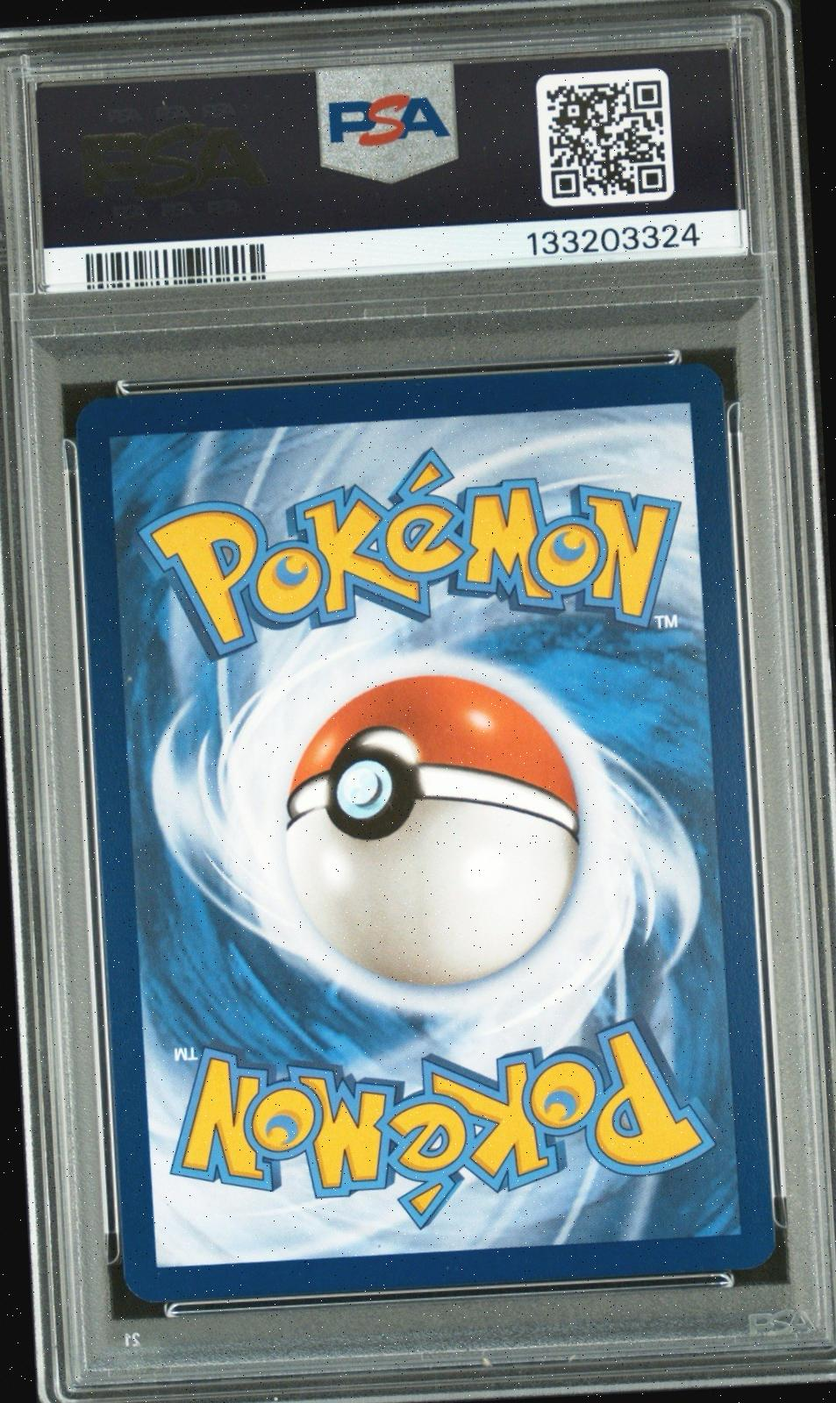card-2UtV: (74, 361, 777, 1304)
